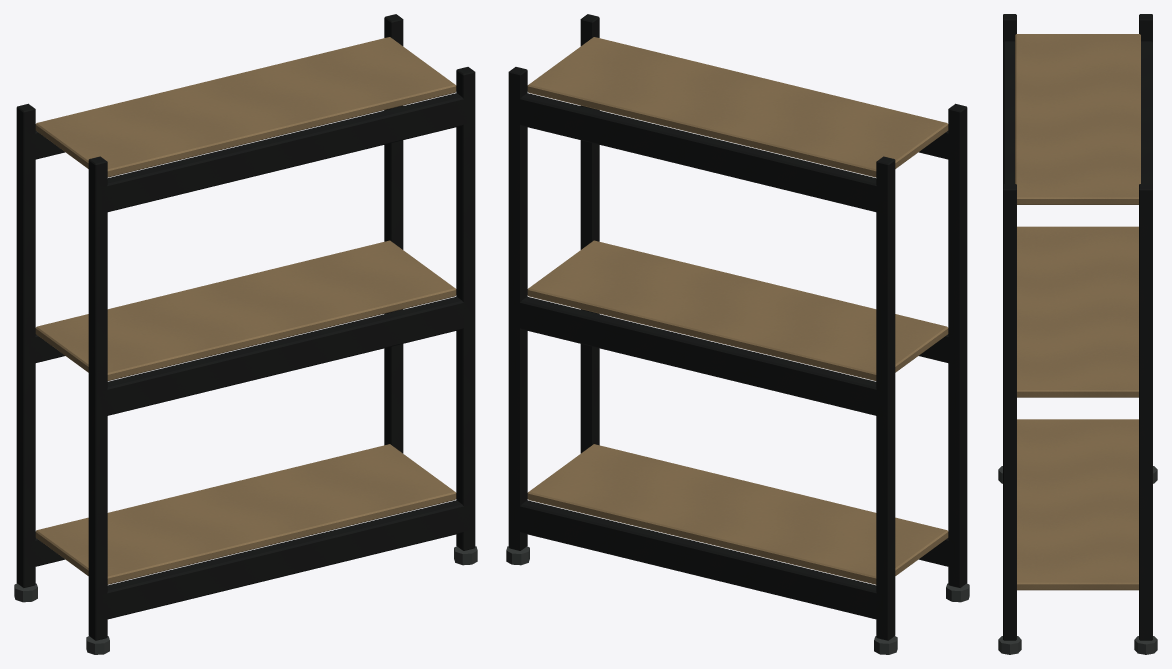
Rendered from shelf_standard_lod2.glb.
3 renders of one model, left to right at view 1: azimuth 30°, elevation 25°; view 2: azimuth 150°, elevation 25°; view 3: azimuth 270°, elevation 25°, orthographic. The views are drawn at different scales.
Visible parts, largest first — view 1: Standard_ShelfBoard_03.002, Standard_ShelfBoard_01.002, Standard_ShelfBoard_02.002, Standard_FrontBeam_03.002, Standard_FrontBeam_01.002, Standard_FrontBeam_02.002, Standard_SlottedUpright_01.002, Standard_SlottedUpright_03.002, Standard_SlottedUpright_02.002, Standard_SlottedUpright_04.002; view 2: Standard_ShelfBoard_03.002, Standard_ShelfBoard_01.002, Standard_ShelfBoard_02.002, Standard_BackBeam_03.002, Standard_BackBeam_01.002, Standard_BackBeam_02.002, Standard_SlottedUpright_03.002, Standard_SlottedUpright_01.002, Standard_SlottedUpright_04.002, Standard_SlottedUpright_02.002; view 3: Standard_ShelfBoard_03.002, Standard_ShelfBoard_01.002, Standard_ShelfBoard_02.002, Standard_SlottedUpright_02.002, Standard_SlottedUpright_04.002, Standard_BackBeam_03.002, Standard_FrontBeam_03.002, Standard_SlottedUpright_01.002, Standard_SlottedUpright_03.002, Standard_LevelingFoot_02.002, Standard_LevelingFoot_04.002.
Boxes of the visible parts, bbox=[...] form: Standard_ShelfBoard_03.002: bbox=[35, 37, 456, 177]; Standard_ShelfBoard_01.002: bbox=[35, 444, 456, 584]; Standard_ShelfBoard_02.002: bbox=[35, 240, 456, 380]; Standard_FrontBeam_03.002: bbox=[101, 93, 469, 212]; Standard_FrontBeam_01.002: bbox=[101, 500, 469, 619]; Standard_FrontBeam_02.002: bbox=[101, 296, 468, 416]; Standard_SlottedUpright_01.002: bbox=[88, 156, 107, 640]; Standard_SlottedUpright_03.002: bbox=[16, 103, 35, 587]; Standard_SlottedUpright_02.002: bbox=[456, 67, 475, 550]; Standard_SlottedUpright_04.002: bbox=[384, 14, 403, 453]; Standard_ShelfBoard_03.002: bbox=[527, 37, 948, 177]; Standard_ShelfBoard_01.002: bbox=[527, 444, 948, 584]; Standard_ShelfBoard_02.002: bbox=[527, 240, 948, 380]; Standard_BackBeam_03.002: bbox=[514, 93, 882, 212]; Standard_BackBeam_01.002: bbox=[514, 500, 882, 619]; Standard_BackBeam_02.002: bbox=[514, 296, 882, 416]; Standard_SlottedUpright_03.002: bbox=[876, 156, 895, 640]; Standard_SlottedUpright_01.002: bbox=[948, 103, 967, 587]; Standard_SlottedUpright_04.002: bbox=[508, 67, 527, 550]; Standard_SlottedUpright_02.002: bbox=[580, 14, 599, 453]; Standard_ShelfBoard_03.002: bbox=[1015, 34, 1140, 204]; Standard_ShelfBoard_01.002: bbox=[1017, 419, 1138, 590]; Standard_ShelfBoard_02.002: bbox=[1017, 226, 1138, 397]; Standard_SlottedUpright_02.002: bbox=[1003, 184, 1016, 640]; Standard_SlottedUpright_04.002: bbox=[1139, 184, 1152, 640]; Standard_BackBeam_03.002: bbox=[1141, 41, 1152, 184]; Standard_FrontBeam_03.002: bbox=[1003, 41, 1014, 184]; Standard_SlottedUpright_01.002: bbox=[1003, 14, 1016, 42]; Standard_SlottedUpright_03.002: bbox=[1139, 14, 1152, 42]; Standard_LevelingFoot_02.002: bbox=[998, 636, 1021, 654]; Standard_LevelingFoot_04.002: bbox=[1134, 636, 1157, 654].
Bounding box in the file's own units: 1.28 × 1.54 × 0.48.
Materials: 3 (2 with a texture image).
